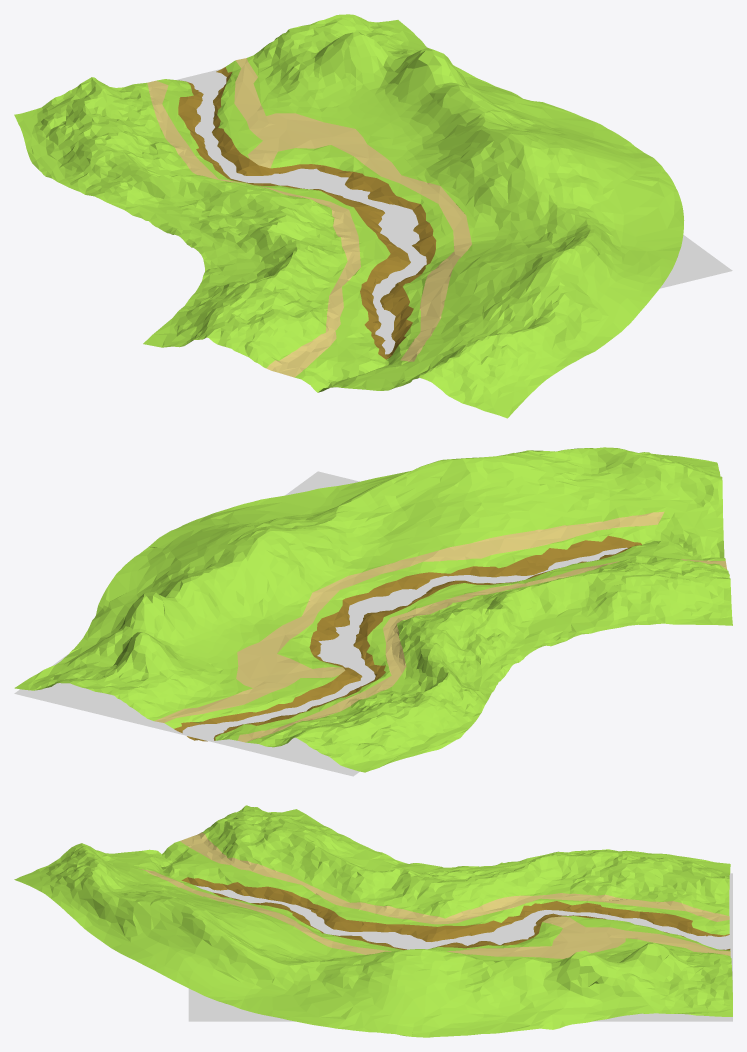
Rendered from Tereny.fbx.
3 views of the same model, one above another, from view 1: azimuth 30°, elevation 25°; view 2: azimuth 150°, elevation 25°; view 3: azimuth 270°, elevation 25° (orthographic). The views are drawn at different scales.
Parts seen in each view (by area): view 1: Landscape, Landscape_water; view 2: Landscape, Landscape_water; view 3: Landscape, Landscape_water.
Boxes of the visible parts, x1,y1,x2,y2 form: Landscape: [14, 14, 684, 418]; Landscape_water: [177, 46, 732, 354]; Landscape: [14, 447, 732, 772]; Landscape_water: [14, 471, 627, 776]; Landscape: [14, 805, 732, 1037]; Landscape_water: [188, 873, 732, 1021].
Bounding box in the file's own units: 22339 × 2325 × 29857.
